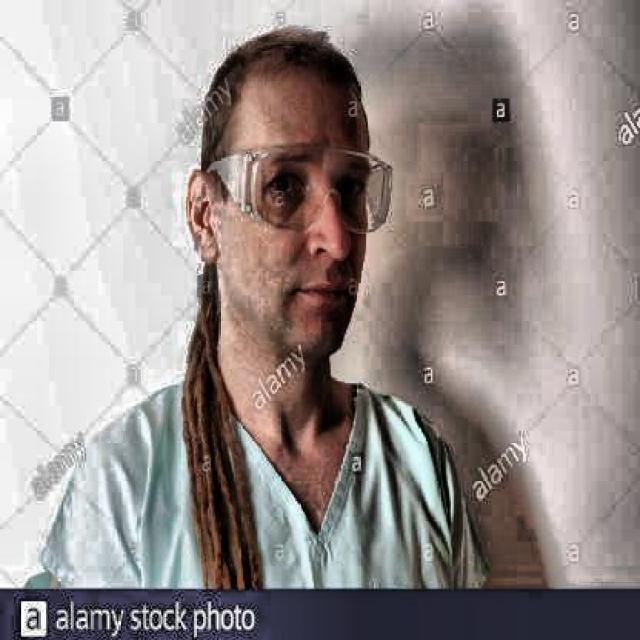Goggles: (192, 142, 414, 244)
